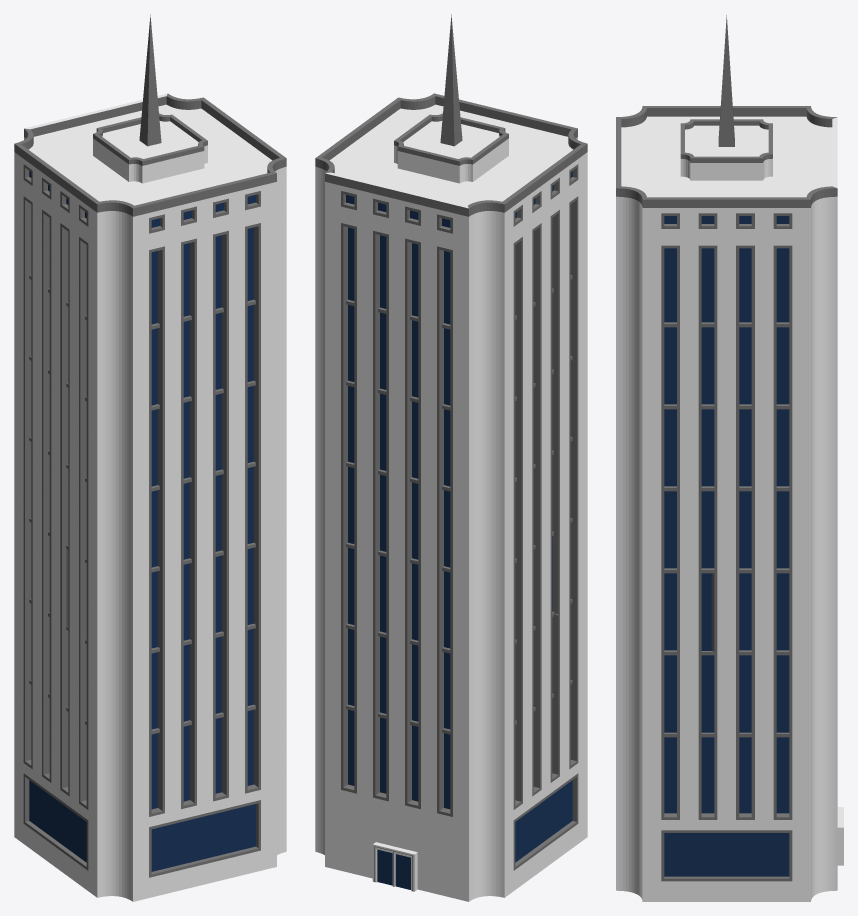
File: SkyScraber2.fbx
The picture shows the model from 3 angles, left to right: view 1: azimuth 30°, elevation 25°; view 2: azimuth 150°, elevation 25°; view 3: azimuth 270°, elevation 25°; orthographic projection.
Visible parts, largest first — view 1: SkyScraber2; view 2: SkyScraber2; view 3: SkyScraber2.
Boxes of the visible parts, <box> form: SkyScraber2: <box>14,14,286,901</box>; SkyScraber2: <box>315,14,587,901</box>; SkyScraber2: <box>616,15,843,901</box>.
Size of the model in its own units: 6854 by 28726 by 7053.
